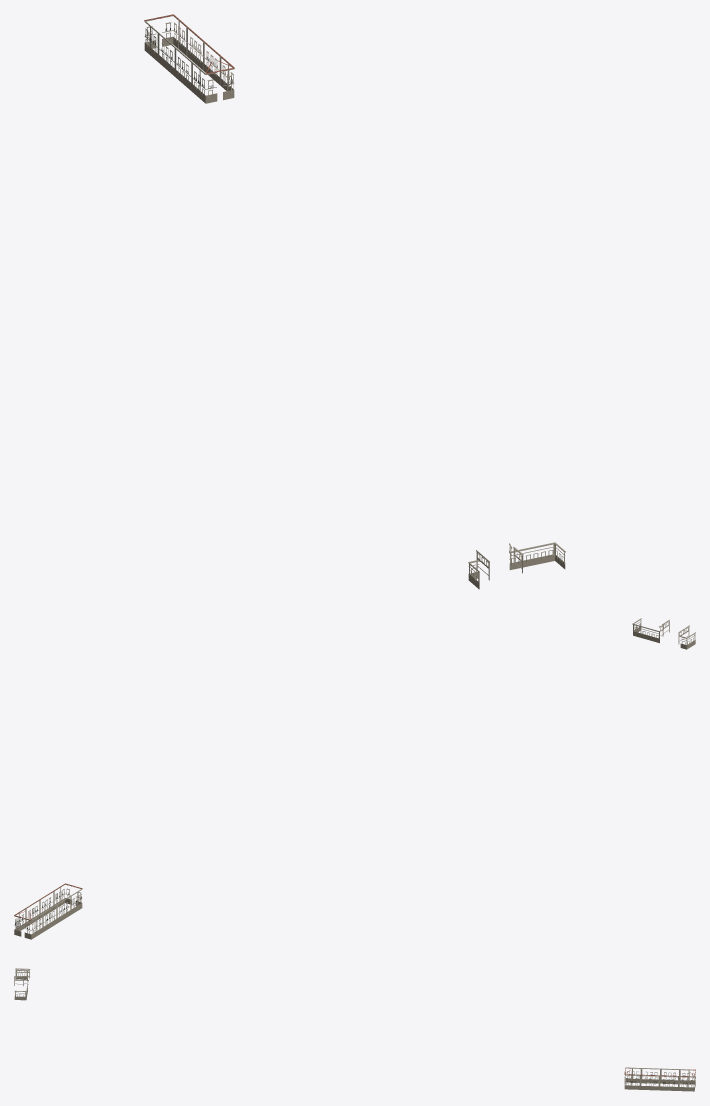
3 renders of one model, top to bottom at view 1: azimuth 30°, elevation 25°; view 2: azimuth 150°, elevation 25°; view 3: azimuth 270°, elevation 25°, orthographic. The views are drawn at different scales.
Visible parts, largest first — view 1: detail; view 2: detail; view 3: detail.
Boxes of the visible parts, <box> form: detail: <box>144,14,565,589</box>; detail: <box>14,618,695,939</box>; detail: <box>14,968,695,1091</box>.
Bounding box in the file's own units: 153 × 26.96 × 484.
